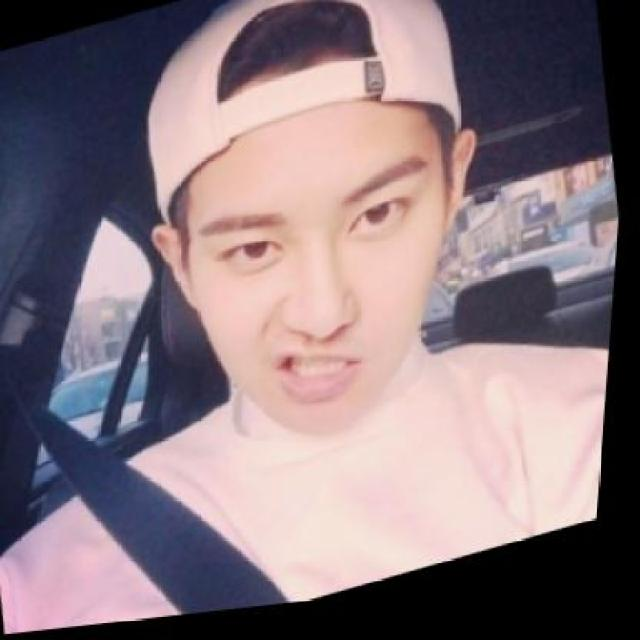hat: (119, 0, 483, 237)
